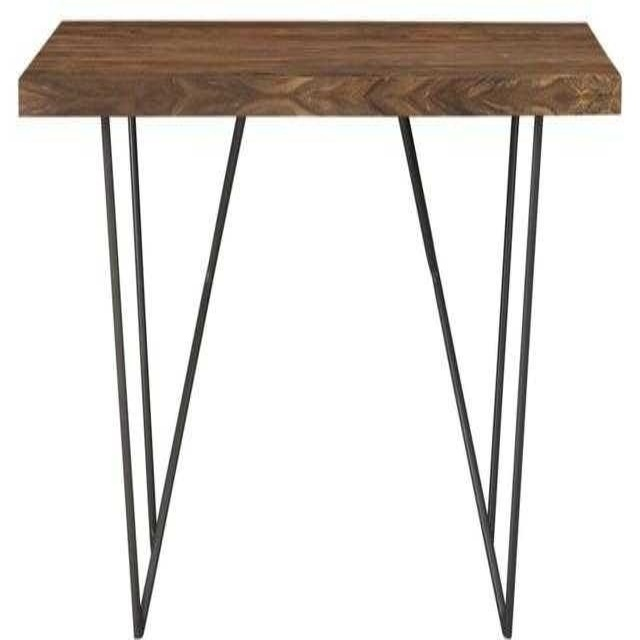obstacle: (19, 21, 620, 635)
